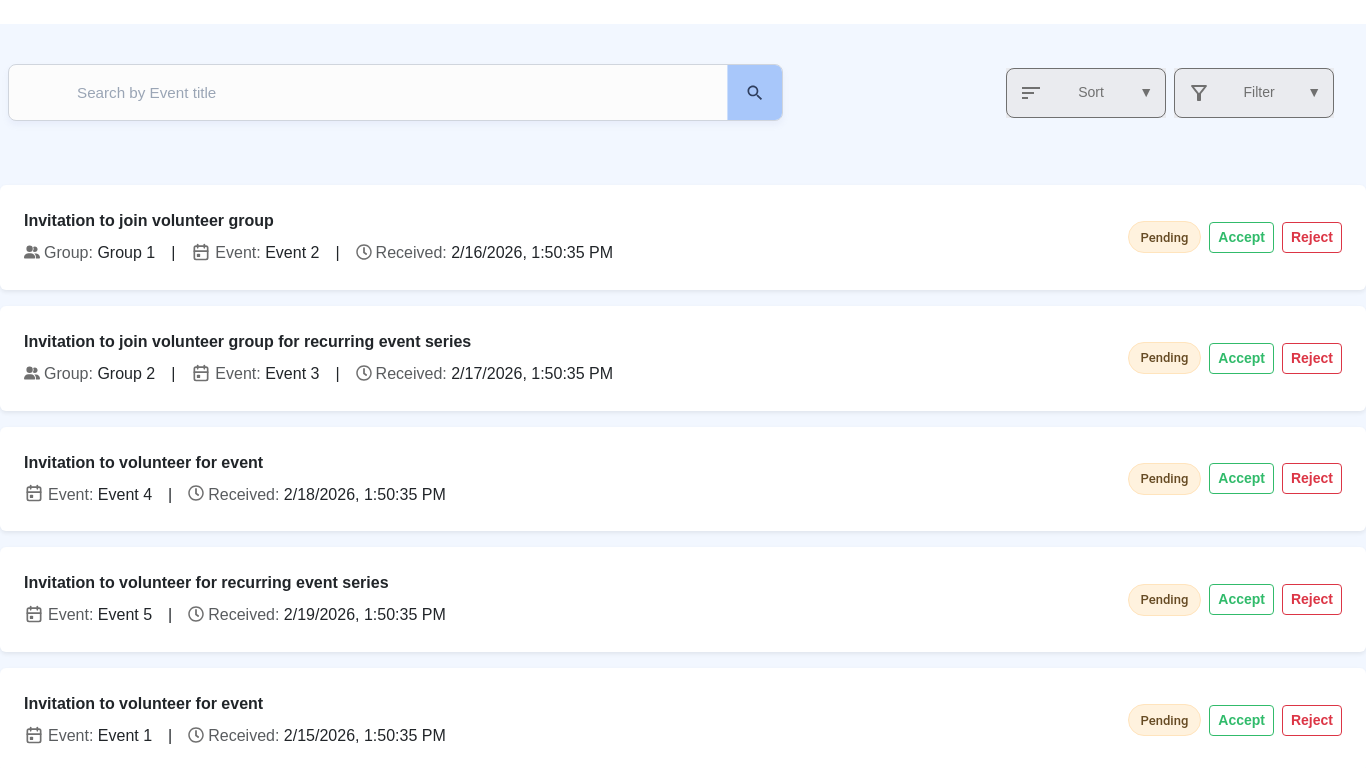
Test case: Testing Invitations Screen › Check Sorting Functionality
The image size is (1366, 768).
expect the search field with test id "searchByInput" is shown: met, box [29, 84, 691, 101]
expect the text with test id "inviteSubject" reads "Invitation to join volunteer group": met, box [24, 212, 274, 229]
Click the button with test id "sort-toggle".
click(1086, 92)  # box [1006, 68, 1166, 118]
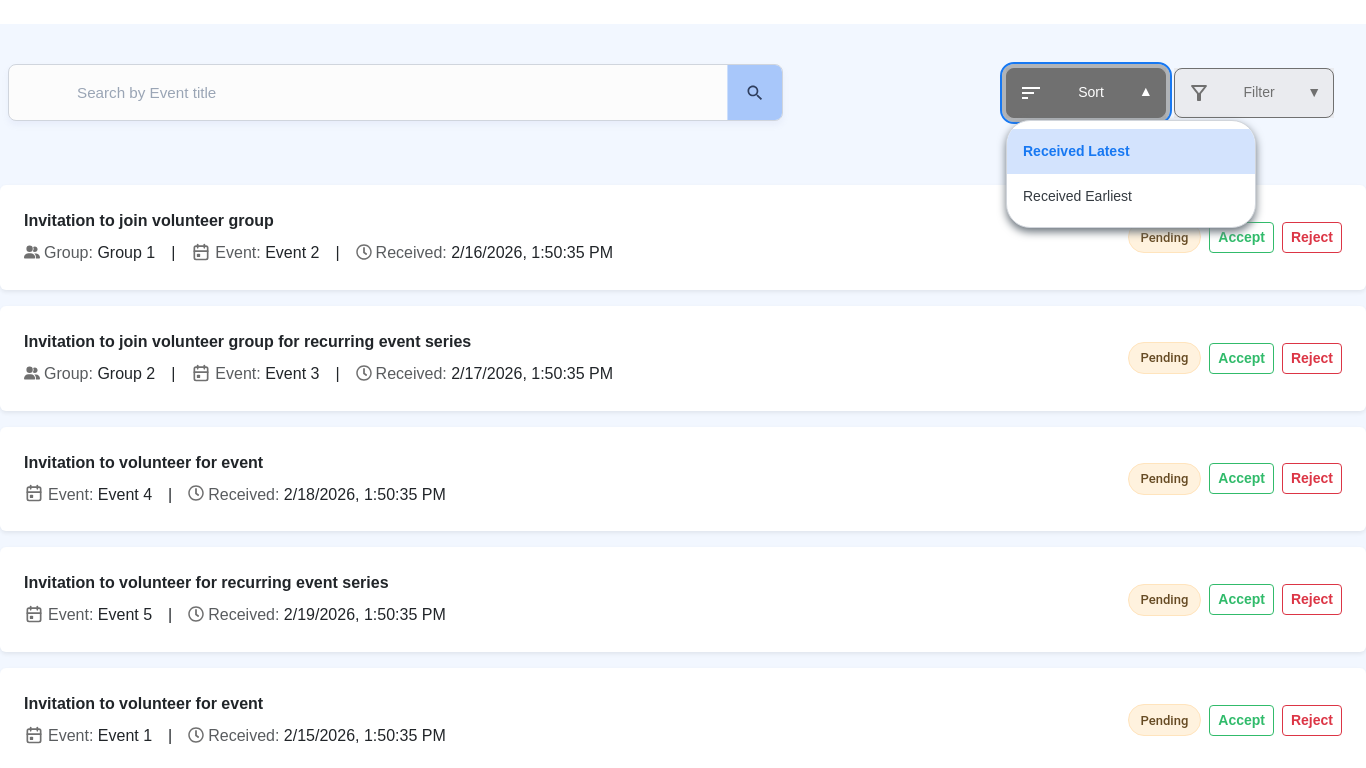
expect the option with test id "sort-item-createdAt_ASC" is shown: met
Click the option with test id "sort-item-createdAt_ASC".
click(1077, 196)  # box [1023, 188, 1132, 204]
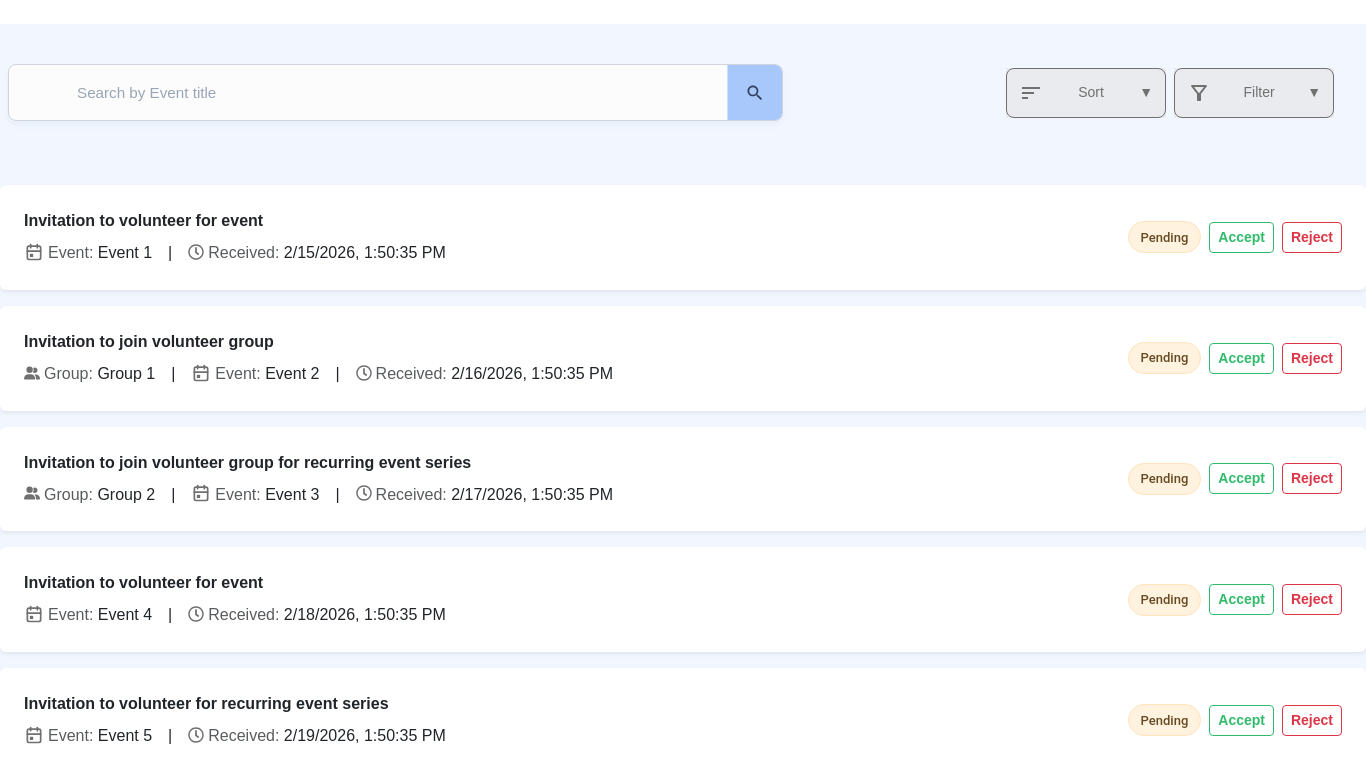
expect the 1st text with test id "inviteSubject" reads "Invitation to volunteer for event": met, box [24, 212, 263, 229]
